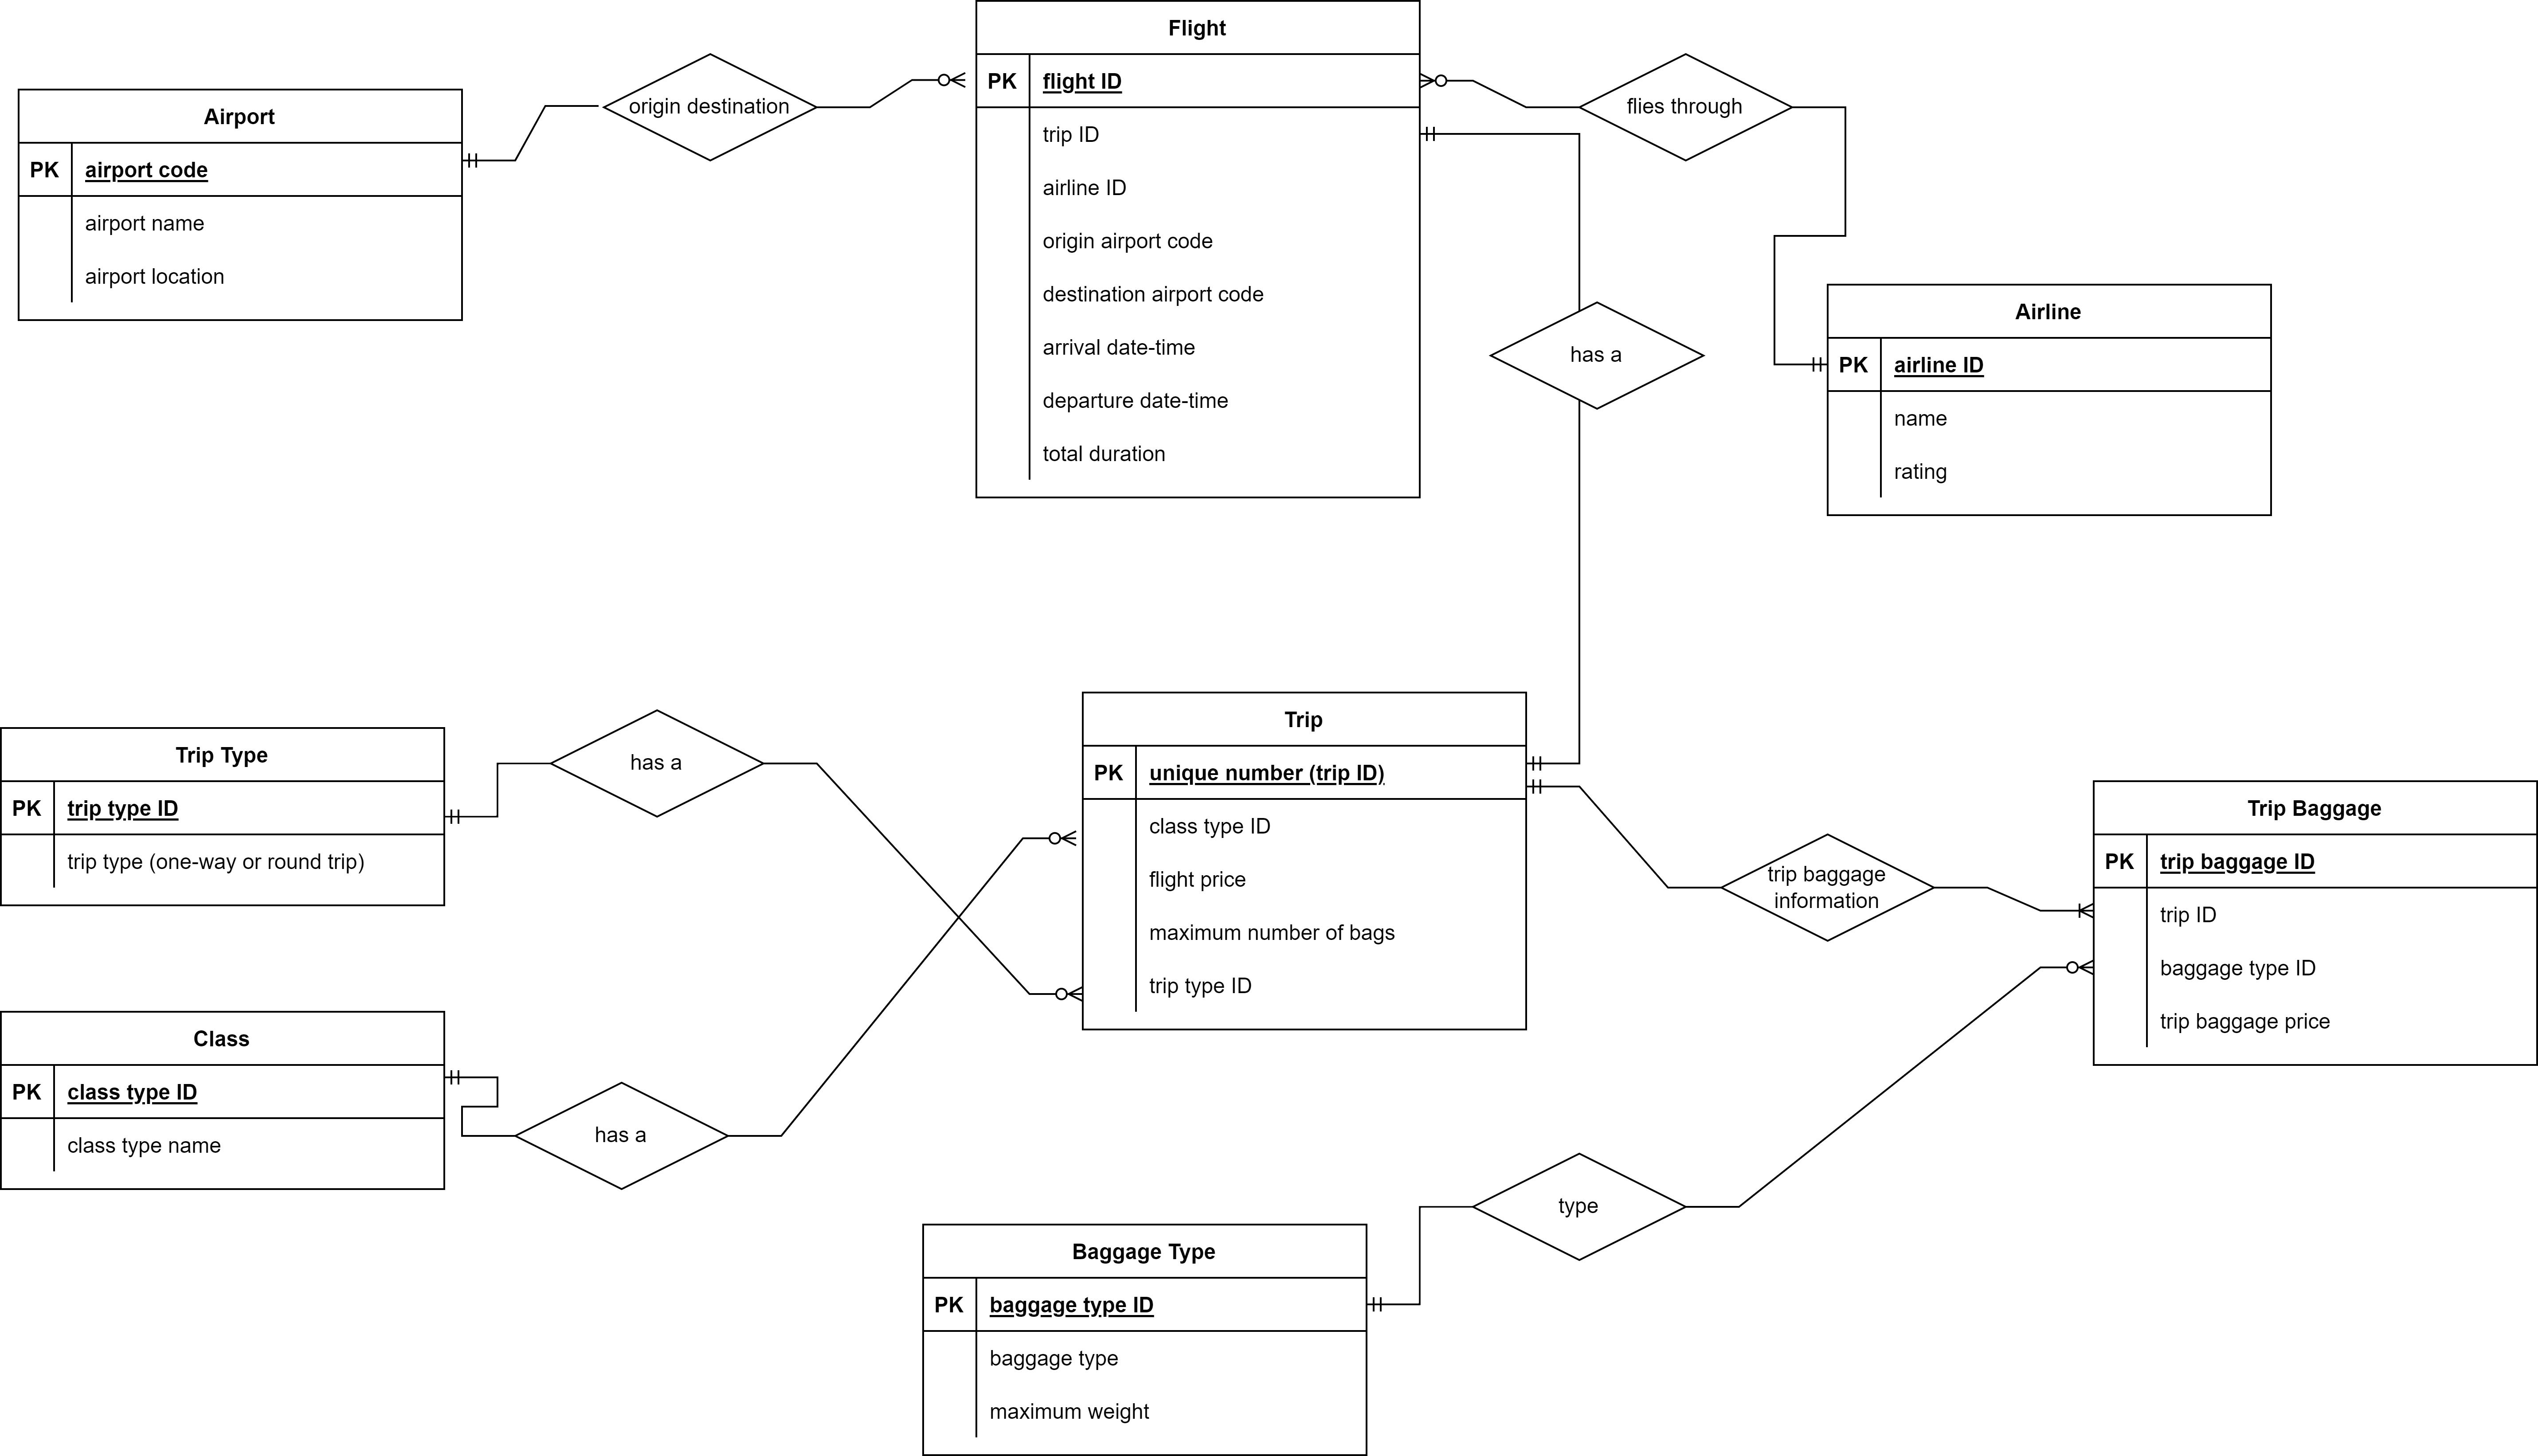entity: (969, 0, 1424, 504), (1074, 689, 1529, 1036), (2088, 778, 2538, 1071), (1822, 281, 2277, 523), (16, 85, 467, 324), (920, 1221, 1370, 1456), (0, 718, 450, 912), (0, 1006, 446, 1193)
relationship: (1473, 1149, 1680, 1266), (516, 1079, 727, 1189), (605, 52, 814, 160), (1492, 302, 1700, 410), (1579, 54, 1788, 160), (1722, 835, 1933, 940), (551, 711, 763, 814)
